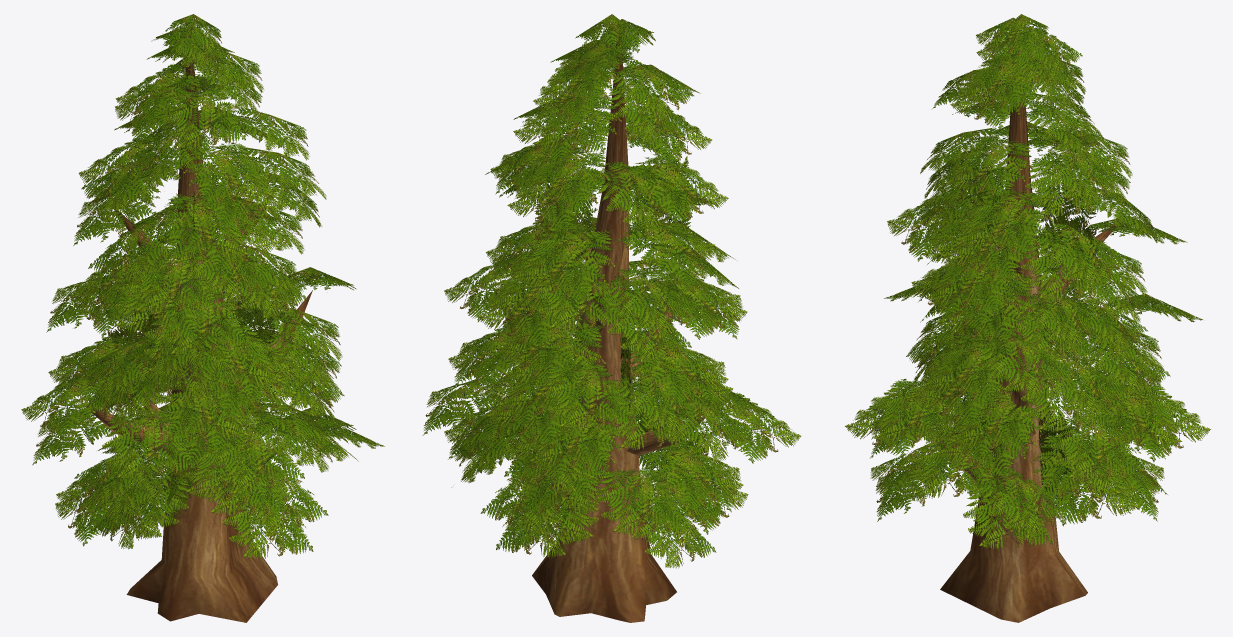
Rendered from obj_madaprtree02.glb.
The picture shows the model from 3 angles, left to right: view 1: azimuth 30°, elevation 25°; view 2: azimuth 150°, elevation 25°; view 3: azimuth 270°, elevation 25°; orthographic projection. The views are drawn at different scales.
Parts seen in each view (by area): view 1: part_0; view 2: part_0; view 3: part_0.
Part boxes in pixels (box(x1,y1,x2,y2)): part_0: box(21, 14, 384, 622); part_0: box(422, 14, 800, 622); part_0: box(845, 14, 1210, 622).
Bounding box in the file's own units: 12.45 × 21.6 × 13.09.
2 materials, 2 textured.
